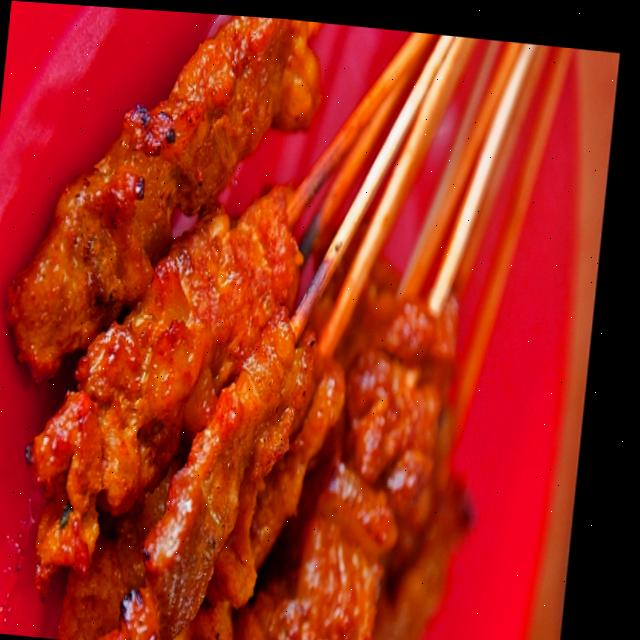牛肉菜式: (0, 0, 599, 640)
